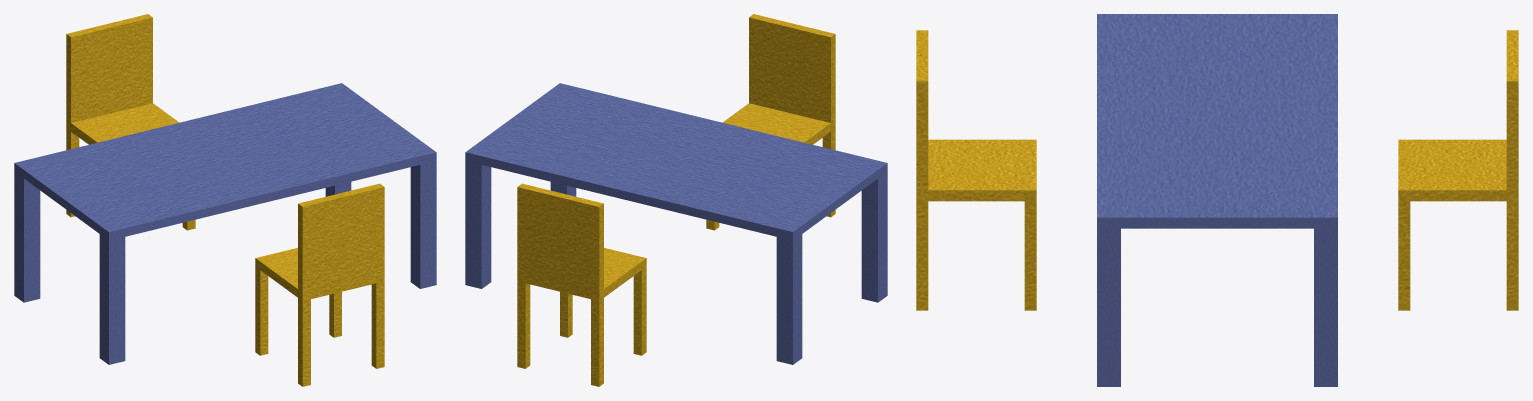
The model's file is tableChairs.fbx.
3 renders of one model, left to right at view 1: azimuth 30°, elevation 25°; view 2: azimuth 150°, elevation 25°; view 3: azimuth 270°, elevation 25°, orthographic. The views are drawn at different scales.
Parts seen in each view (by area): view 1: tabletop, chair, chair.1; view 2: tabletop, chair.1, chair; view 3: tabletop, chair, chair.1.
Part boxes in pixels (left/top/right/bottom): tabletop: left=14, top=83, right=436, bottom=364; chair: left=255, top=183, right=384, bottom=386; chair.1: left=66, top=14, right=195, bottom=230; tabletop: left=465, top=83, right=887, bottom=364; chair.1: left=517, top=183, right=646, bottom=386; chair: left=706, top=14, right=835, bottom=230; tabletop: left=1097, top=14, right=1337, bottom=386; chair: left=916, top=30, right=1036, bottom=310; chair.1: left=1398, top=30, right=1518, bottom=310.
Bounding box in the file's own units: 200 × 105 × 250.
